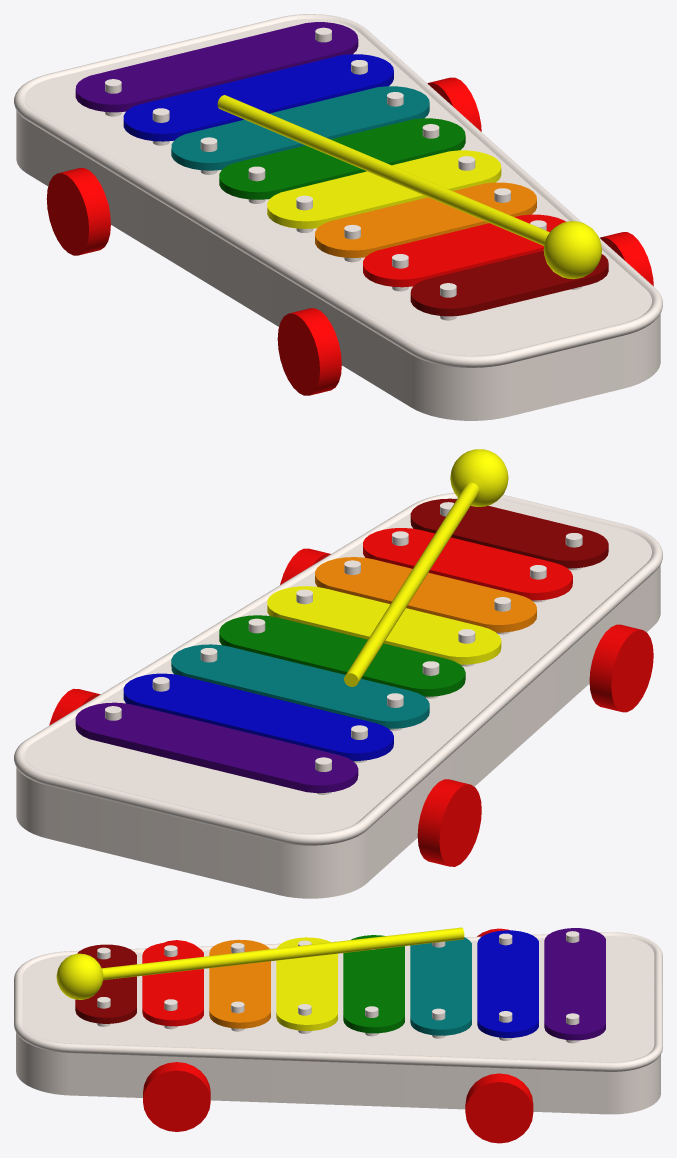
The model's file is Classic+Xylophone.fbx.
The picture shows the model from 3 angles, top to bottom: view 1: azimuth 30°, elevation 25°; view 2: azimuth 150°, elevation 25°; view 3: azimuth 270°, elevation 25°; orthographic projection. The views are drawn at different scales.
Parts seen in each view (by area): view 1: Group3, Group5, Group6, Group2, Group4; view 2: Group3, Group5, Group6, Group2, Group4; view 3: Group3, Group5, Group6, Group2, Group4.
Part boxes in pixels (x1,y1,x2,y2): Group3: (14,14,662,420); Group5: (75,22,608,316); Group6: (217,95,601,279); Group2: (46,77,481,255); Group4: (277,232,653,395); Group3: (14,492,662,898); Group5: (75,498,608,792); Group6: (344,449,508,686); Group2: (49,688,481,866); Group4: (280,548,653,712); Group3: (14,931,662,1114); Group5: (75,928,605,1040); Group6: (56,927,464,999); Group2: (465,928,533,1143); Group4: (143,940,210,1131).
Bounding box in the file's own units: 6.75 × 2.66 × 12.07.
